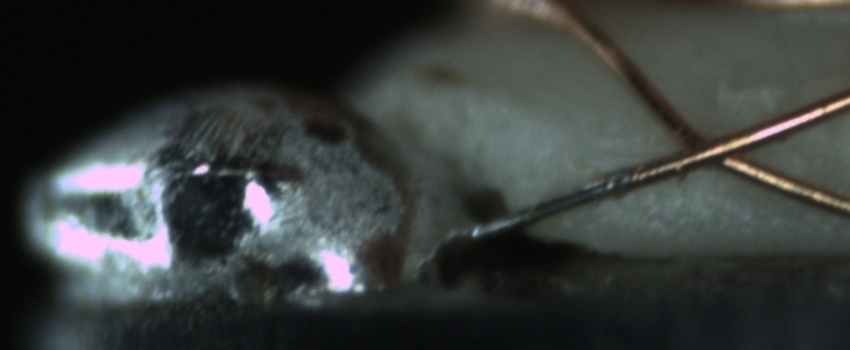CL: (650, 109, 780, 178)
DL: (583, 135, 699, 183)
TS: (466, 169, 636, 240)
TTCW: (466, 153, 699, 241)
